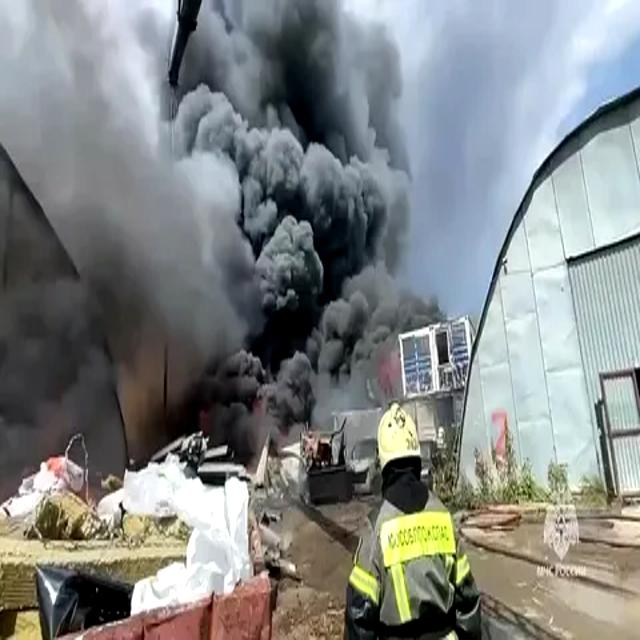Smoke: (128, 0, 417, 464)
